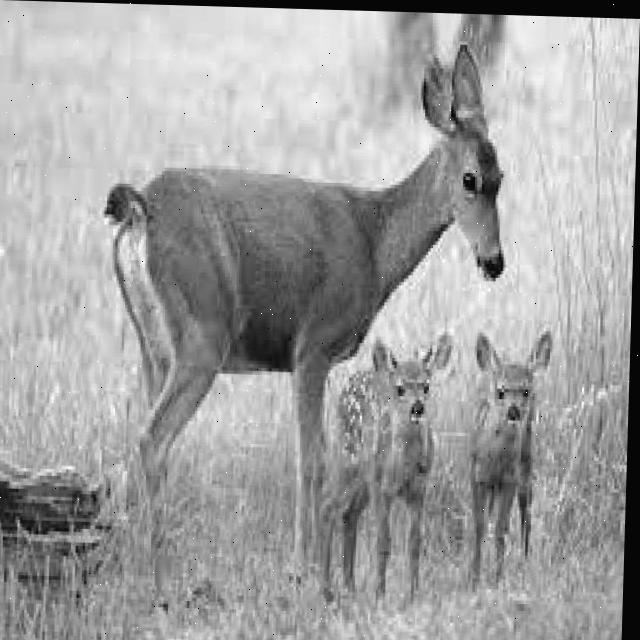Deer: (72, 52, 522, 330), (315, 340, 462, 599), (466, 332, 578, 599)
